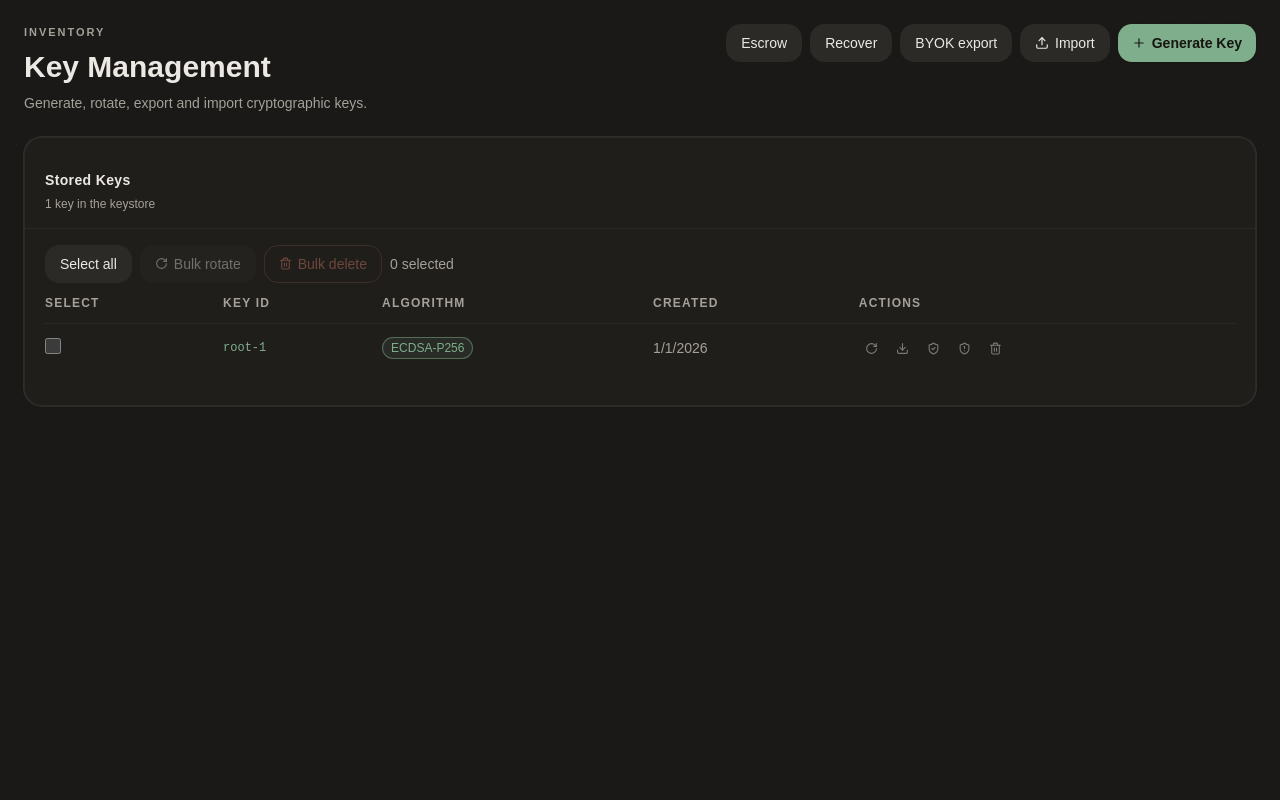
it: Keys escrow / recover / BYOK (W23-21) › recover shows the bundle digest to the proposer
This screenshot has width=1280, height=800.
Step 1. Click the button "Recover" → [851, 43], box [810, 24, 892, 62]
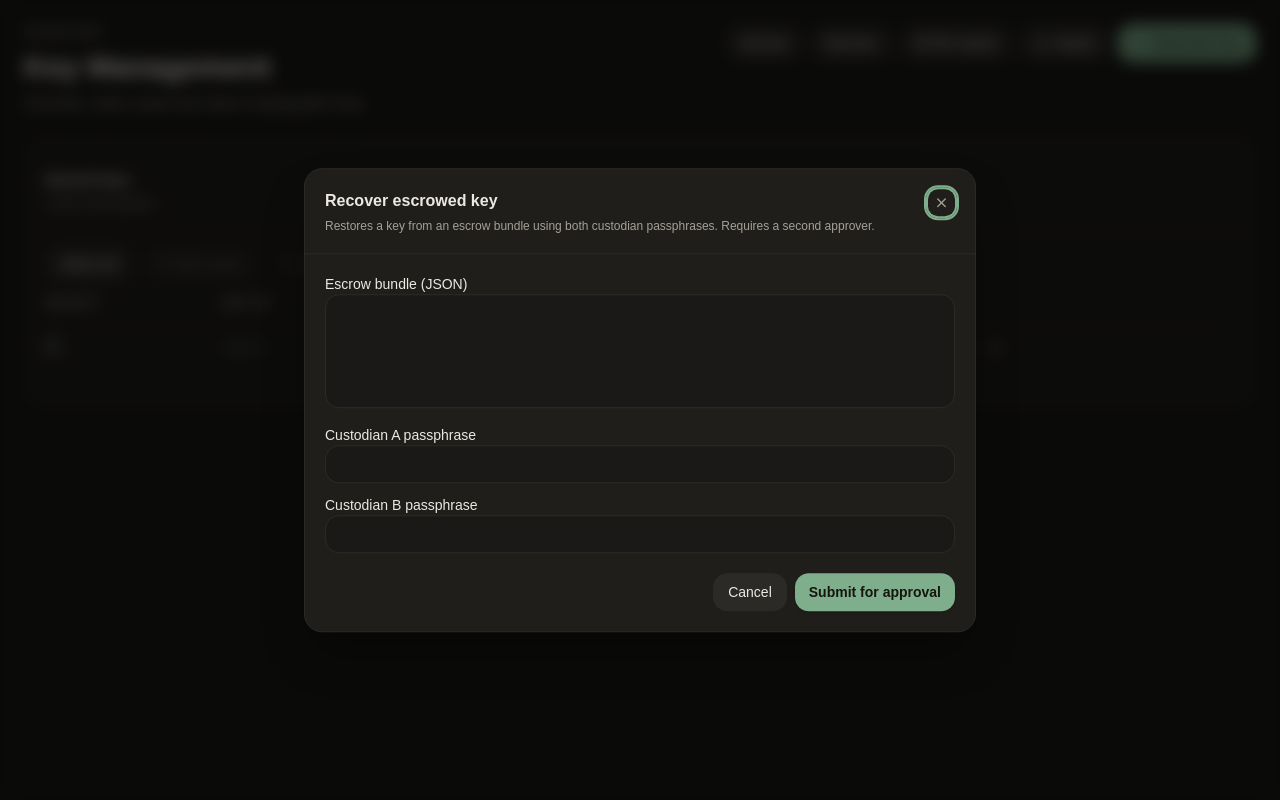
Step 2. Click the text box labelled "Escrow bundle (JSON)" → [640, 351], box [325, 294, 955, 408]
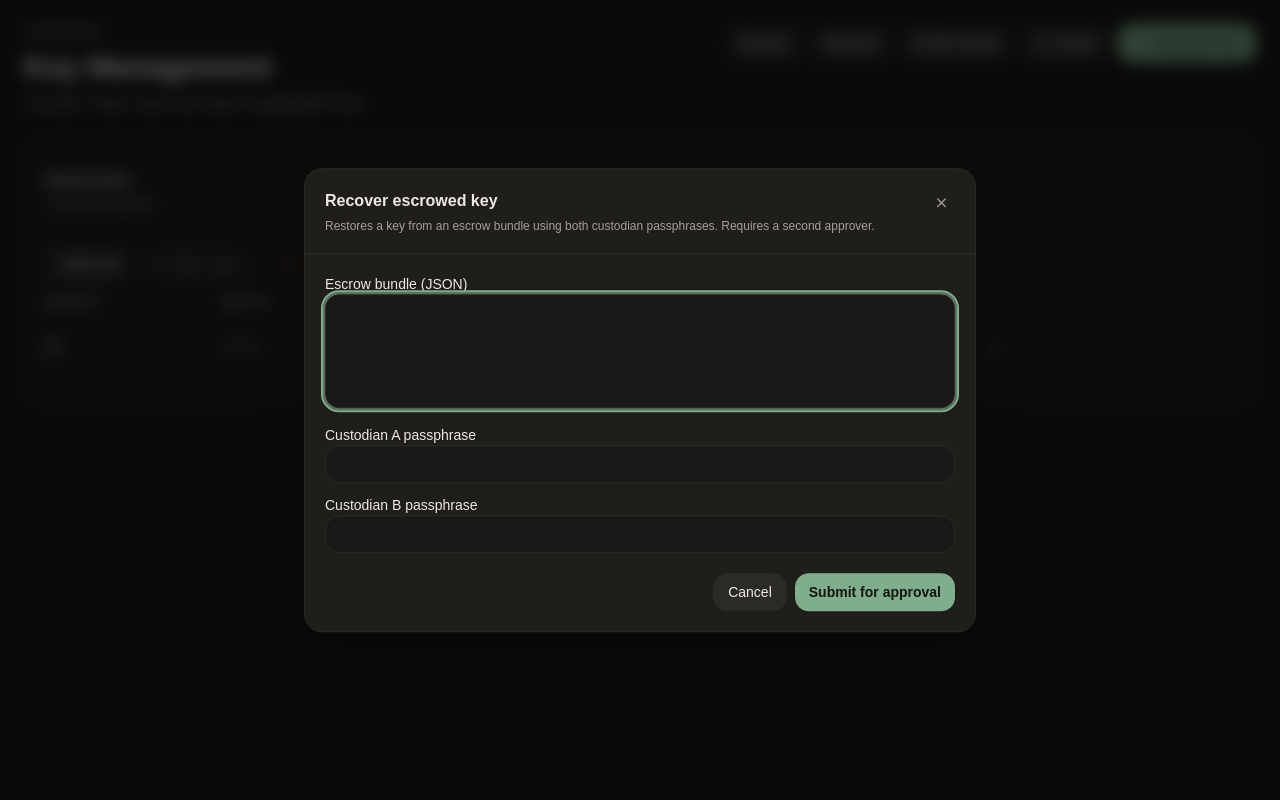
Step 3. Type keys "{\"schema_version\":1,\"key_id\":\"root-1\",\"shares\":[]}"
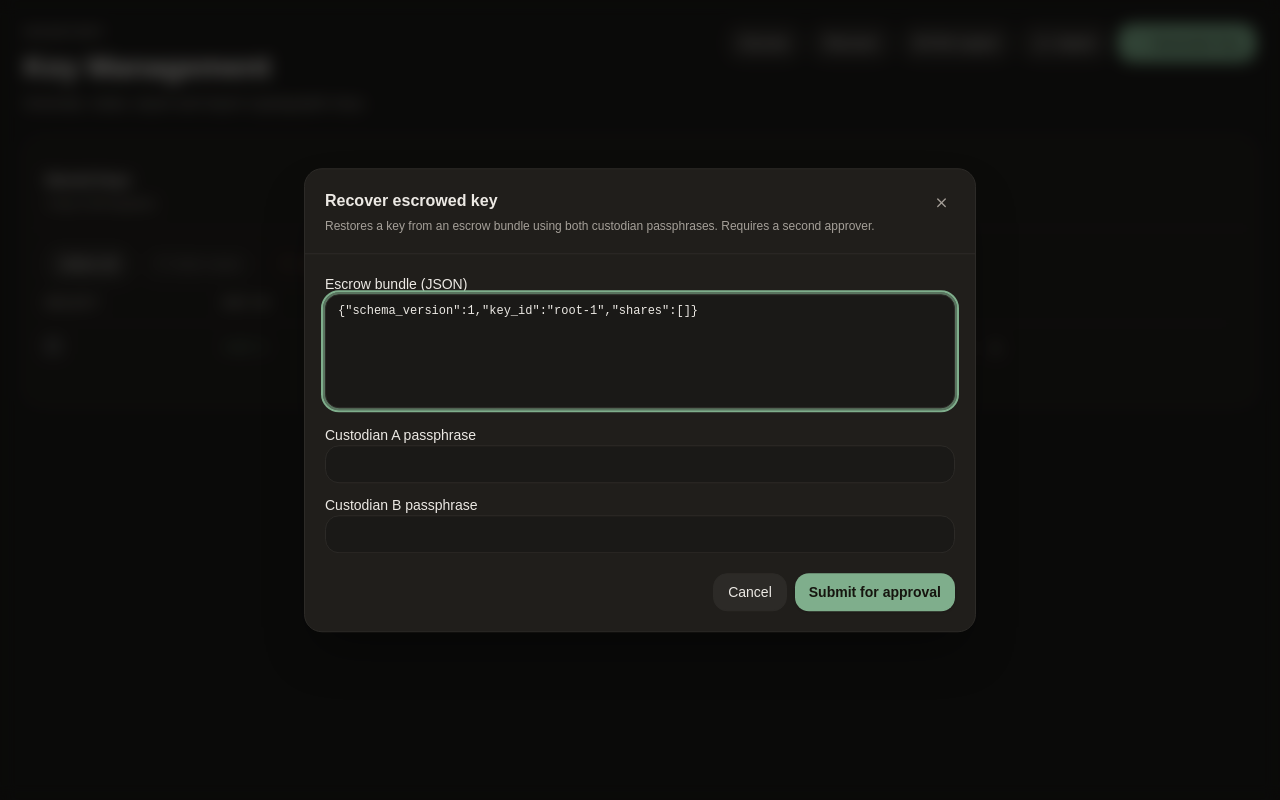
Step 4. Type "alpha-secret" into the password field labelled "Custodian A passphrase" → [640, 464], box [325, 445, 955, 483]
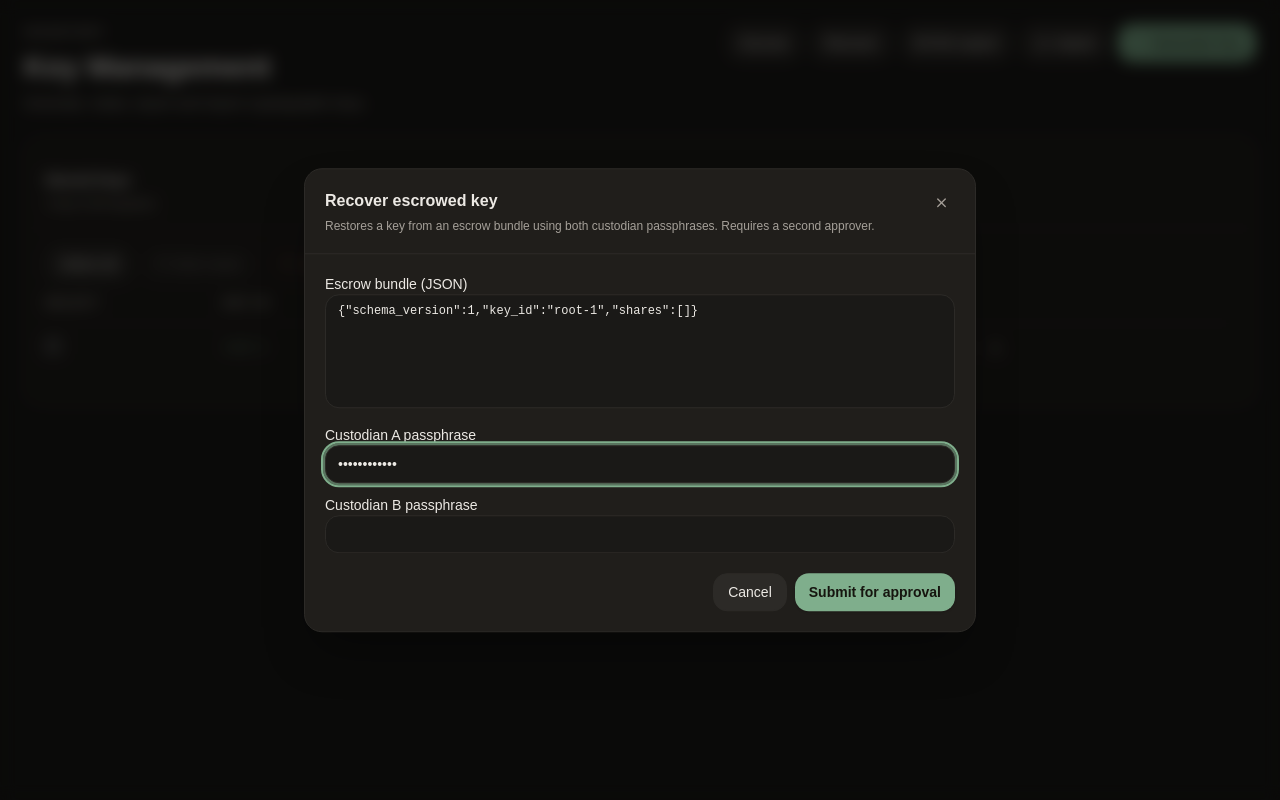
Step 5. Type "bravo-secret" into the password field labelled "Custodian B passphrase" → [640, 534], box [325, 515, 955, 553]
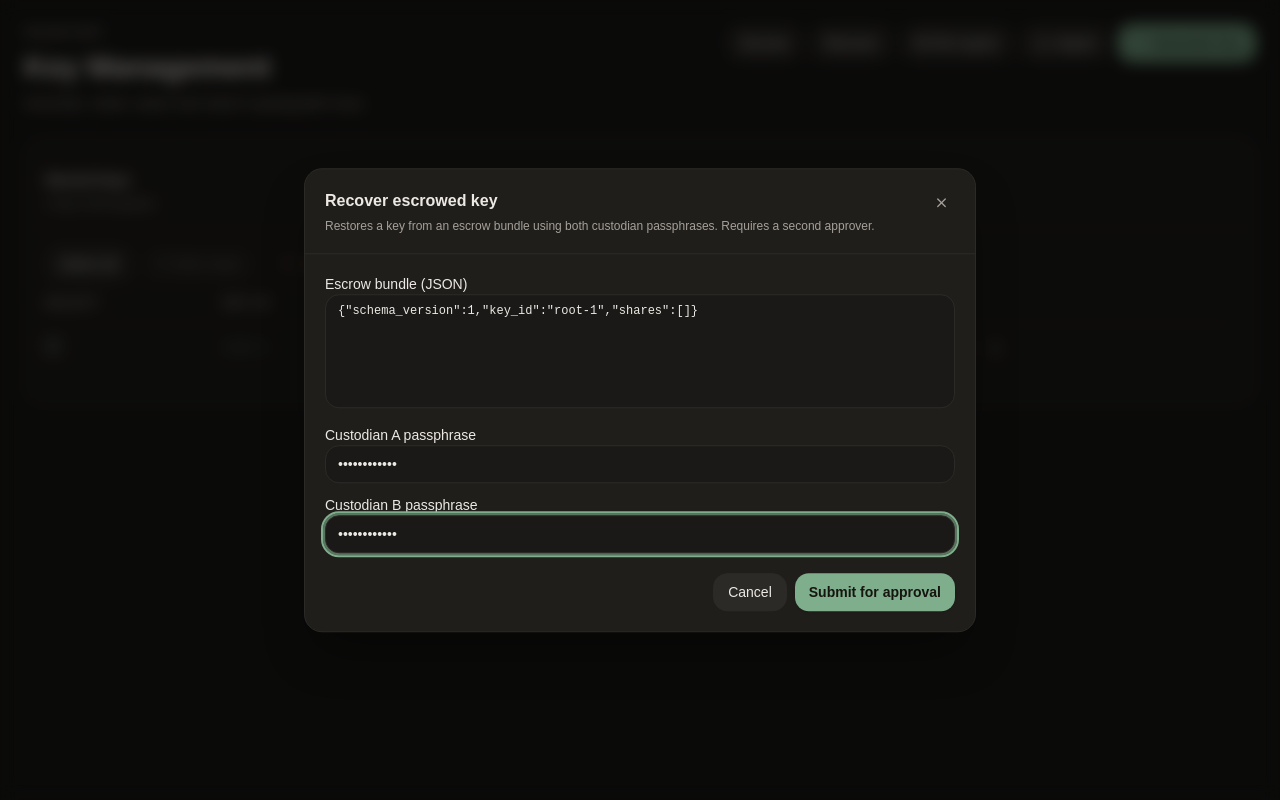
Step 6. Click the button "Submit for approval" → [875, 592], box [795, 573, 955, 611]
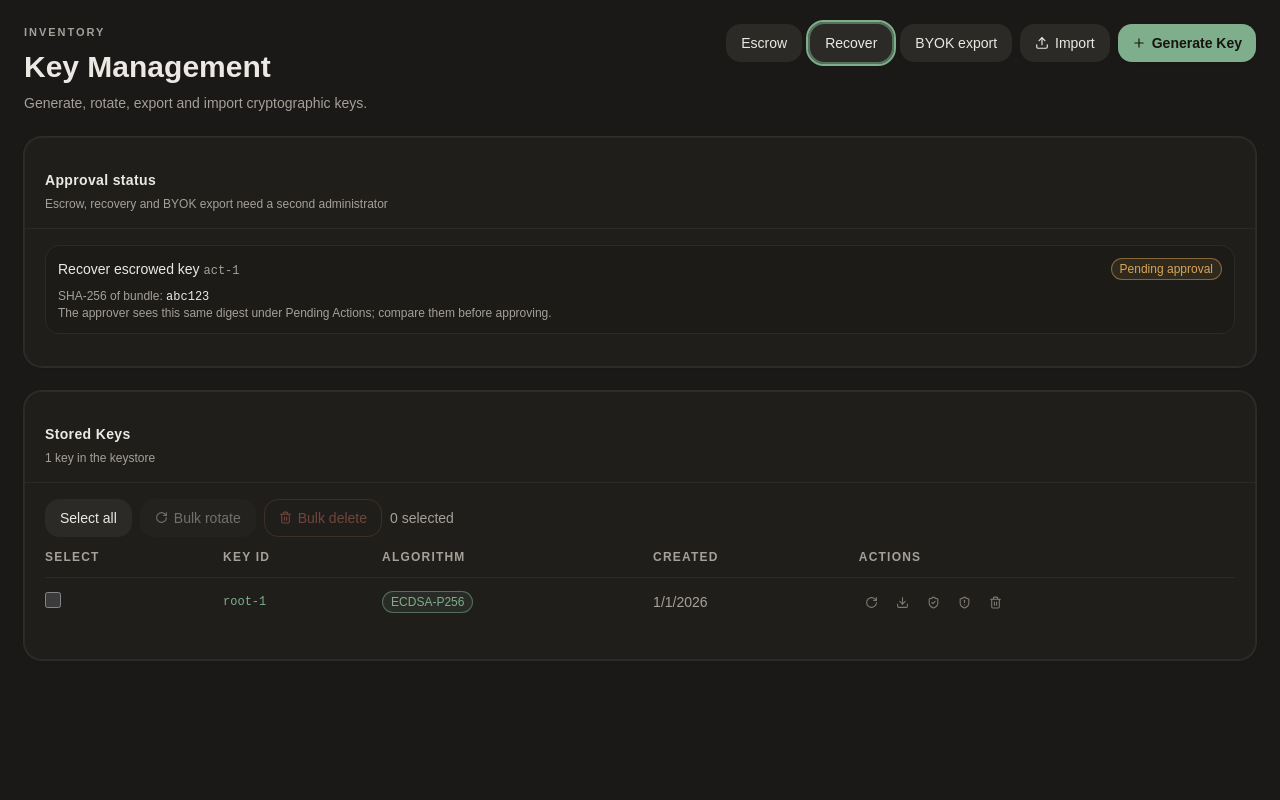
Result: the text with test id "bundle-digest" reads "abc123" at [166, 290, 209, 304]
Result: the text "approver sees this same digest" is shown at [58, 306, 552, 320]
